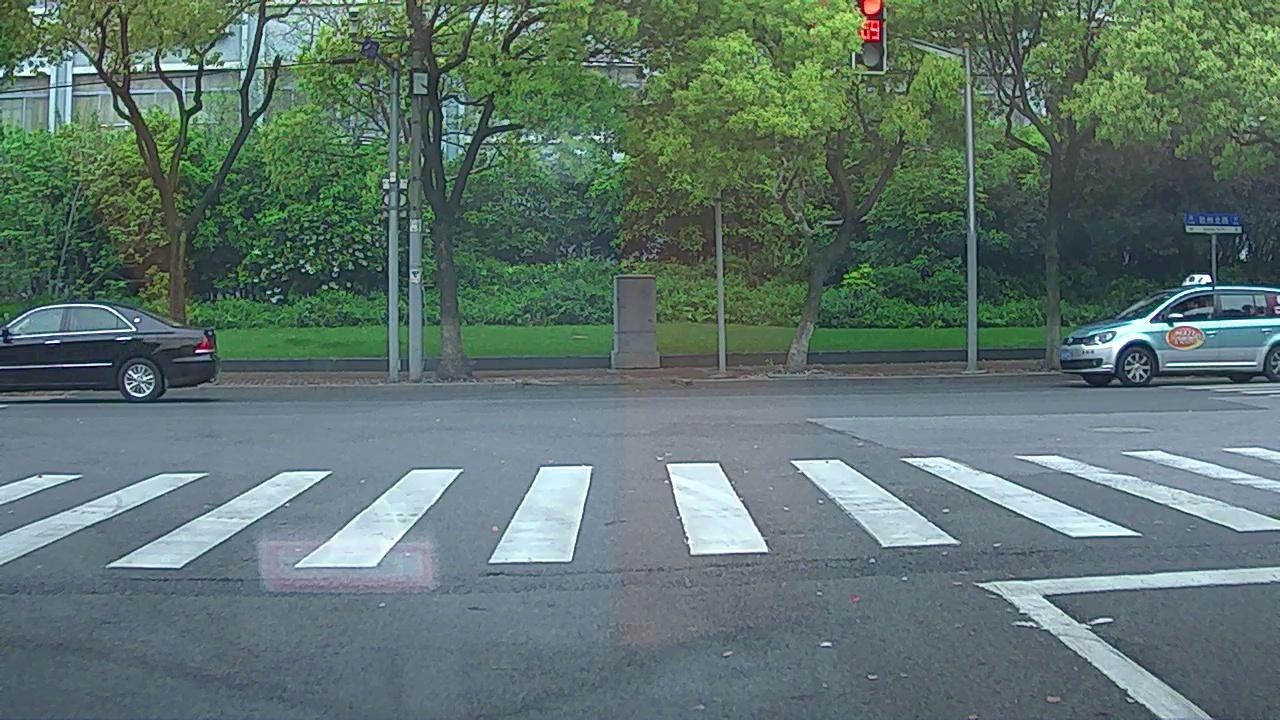traffic_light: (856, 1, 884, 69)
